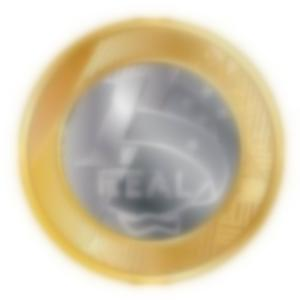1 real: (17, 15, 285, 284)
